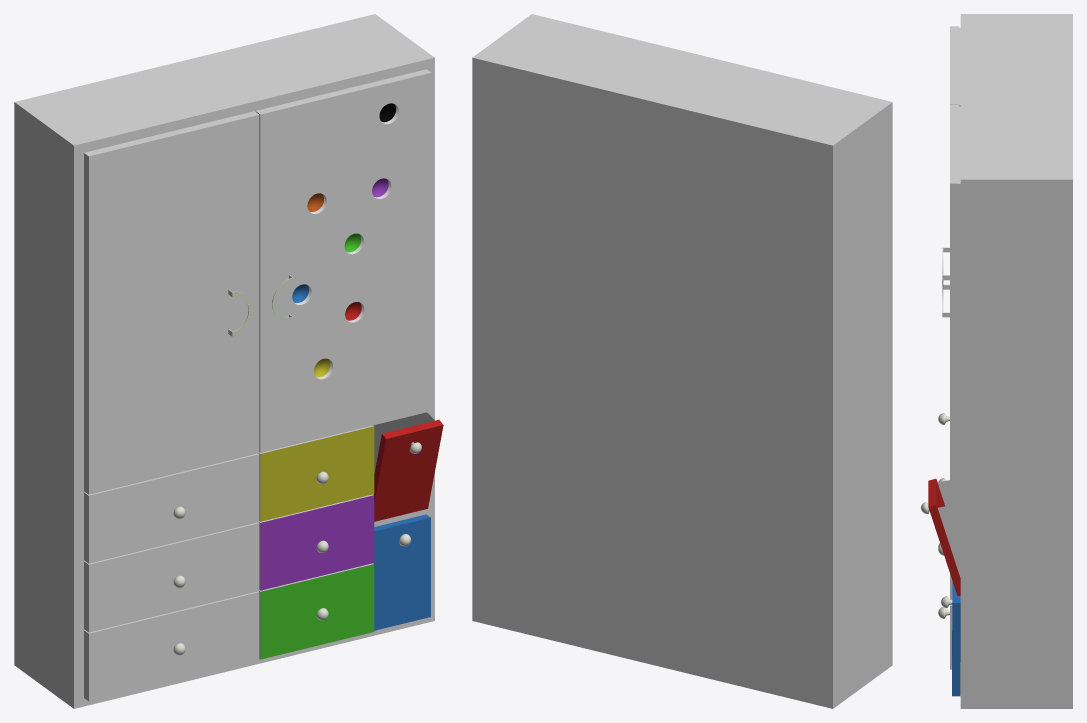
File: cupboard.obj
3 renders of one model, left to right at view 1: azimuth 30°, elevation 25°; view 2: azimuth 150°, elevation 25°; view 3: azimuth 270°, elevation 25°, orthographic. The views are drawn at different scales.
Parts seen in each view (by area): view 1: Cupboard_Plane.012, Upper_Vertical_Drawer_Plane.005, Lower_Vertical_Drawer__Plane.010; view 2: Cupboard_Plane.012; view 3: Cupboard_Plane.012, Upper_Vertical_Drawer_Plane.005, Lower_Vertical_Drawer__Plane.010.
Boxes of the visible parts, box(x1,y1,x2,y2) form: Cupboard_Plane.012: box(14, 14, 434, 708); Upper_Vertical_Drawer_Plane.005: box(373, 412, 443, 521); Lower_Vertical_Drawer__Plane.010: box(373, 514, 430, 630); Cupboard_Plane.012: box(472, 14, 892, 708); Cupboard_Plane.012: box(938, 14, 1072, 708); Upper_Vertical_Drawer_Plane.005: box(921, 478, 960, 596); Lower_Vertical_Drawer__Plane.010: box(941, 581, 960, 696).
Size of the model in its own units: 101 by 150 by 39.01.
